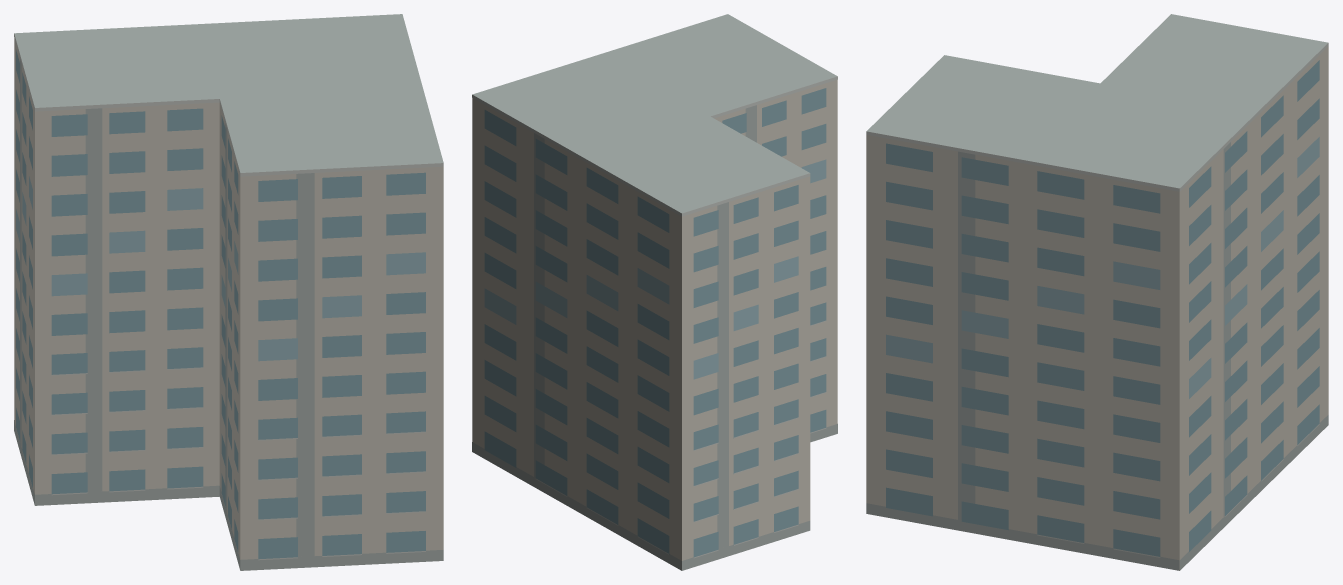
Rendered from residential-8961b65b-aa7f-4cf7-b1e2-6bd32f30434e.glb.
3 renders of one model, left to right at view 1: azimuth 30°, elevation 25°; view 2: azimuth 150°, elevation 25°; view 3: azimuth 270°, elevation 25°, orthographic. The views are drawn at different scales.
Visible parts, largest first — view 1: residential-8961b65b-aa7f-4cf7-b1e2-6bd32f30434e.tmp; view 2: residential-8961b65b-aa7f-4cf7-b1e2-6bd32f30434e.tmp; view 3: residential-8961b65b-aa7f-4cf7-b1e2-6bd32f30434e.tmp.
Part boxes in pixels (x1=…): residential-8961b65b-aa7f-4cf7-b1e2-6bd32f30434e.tmp: x1=14, y1=14, x2=443, y2=570; residential-8961b65b-aa7f-4cf7-b1e2-6bd32f30434e.tmp: x1=472, y1=14, x2=837, y2=570; residential-8961b65b-aa7f-4cf7-b1e2-6bd32f30434e.tmp: x1=866, y1=14, x2=1328, y2=570.
Bounding box in the file's own units: 26.43 × 27 × 29.58.
